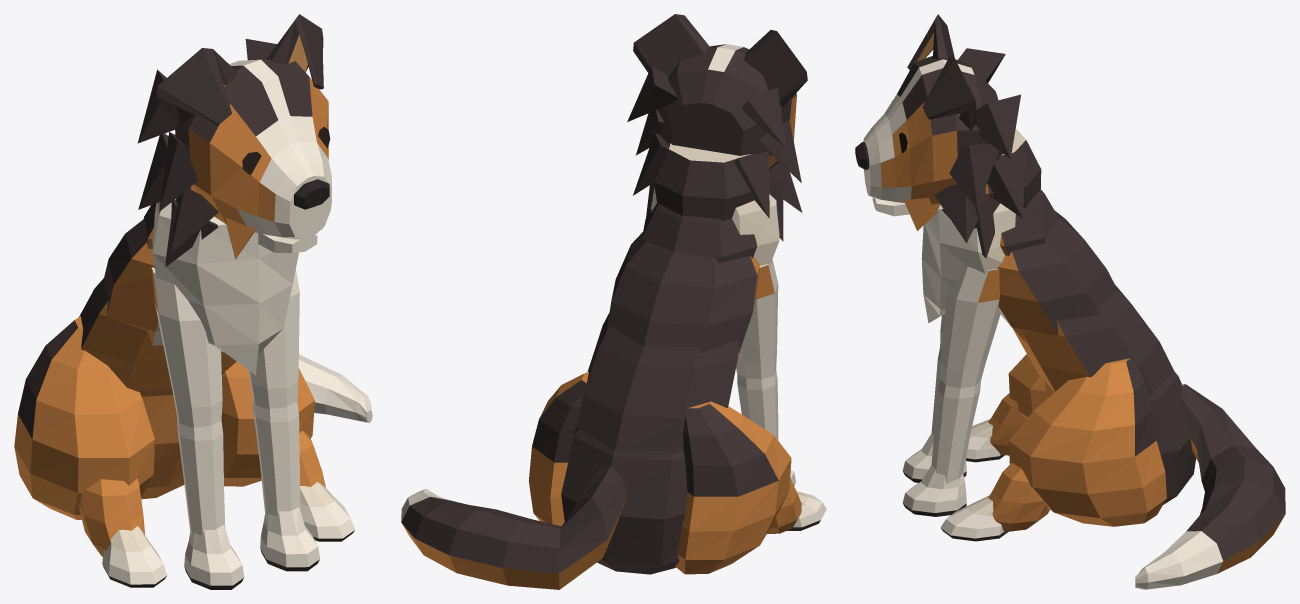
Rendered from Dog_Sit_Codex.fbx.
3 renders of one model, left to right at view 1: azimuth 30°, elevation 25°; view 2: azimuth 150°, elevation 25°; view 3: azimuth 270°, elevation 25°, orthographic. The views are drawn at different scales.
Parts seen in each view (by area): view 1: Dog_Sit_Codex_Head, Dog_Sit_Codex_HindUpper.R, Dog_Sit_Codex_Ruff, Dog_Sit_Codex_FrontUpper.R, Dog_Sit_Codex_Spine1, Dog_Sit_Codex_HindUpper.L, Dog_Sit_Codex_Spine2, Dog_Sit_Codex_FrontLower.L, Dog_Sit_Codex_FrontLower.R, Dog_Sit_Codex_Ear.R, Dog_Sit_Codex_FrontUpper.L, Dog_Sit_Codex_HindLower.R (+10 smaller); view 2: Dog_Sit_Codex_Head, Dog_Sit_Codex_HindUpper.R, Dog_Sit_Codex_Spine1, Dog_Sit_Codex_Spine2, Dog_Sit_Codex_Pelvis, Dog_Sit_Codex_Tail2, Dog_Sit_Codex_Neck2, Dog_Sit_Codex_HindUpper.L, Dog_Sit_Codex_Tail1, Dog_Sit_Codex_Neck1, Dog_Sit_Codex_FrontUpper.R, Dog_Sit_Codex_Ear.L (+6 smaller); view 3: Dog_Sit_Codex_Head, Dog_Sit_Codex_HindUpper.L, Dog_Sit_Codex_Spine2, Dog_Sit_Codex_Spine1, Dog_Sit_Codex_Tail3, Dog_Sit_Codex_FrontUpper.L, Dog_Sit_Codex_Tail2, Dog_Sit_Codex_Ruff, Dog_Sit_Codex_Pelvis, Dog_Sit_Codex_FrontLower.L, Dog_Sit_Codex_Tail1, Dog_Sit_Codex_HindLower.L (+10 smaller).
Part boxes in pixels (left/top/right/bottom): Dog_Sit_Codex_Head: left=137, top=39, right=331, bottom=267; Dog_Sit_Codex_HindUpper.R: left=14, top=316, right=154, bottom=519; Dog_Sit_Codex_Ruff: left=152, top=199, right=298, bottom=375; Dog_Sit_Codex_FrontUpper.R: left=151, top=267, right=222, bottom=427; Dog_Sit_Codex_Spine1: left=79, top=278, right=236, bottom=396; Dog_Sit_Codex_HindUpper.L: left=221, top=361, right=314, bottom=486; Dog_Sit_Codex_Spine2: left=103, top=219, right=162, bottom=345; Dog_Sit_Codex_FrontLower.L: left=253, top=398, right=300, bottom=520; Dog_Sit_Codex_FrontLower.R: left=177, top=416, right=225, bottom=539; Dog_Sit_Codex_Ear.R: left=157, top=48, right=238, bottom=125; Dog_Sit_Codex_FrontUpper.L: left=248, top=269, right=299, bottom=409; Dog_Sit_Codex_HindLower.R: left=79, top=478, right=145, bottom=556; Dog_Sit_Codex_Head: left=627, top=44, right=802, bottom=241; Dog_Sit_Codex_HindUpper.R: left=675, top=401, right=791, bottom=574; Dog_Sit_Codex_Spine1: left=577, top=312, right=738, bottom=453; Dog_Sit_Codex_Spine2: left=606, top=232, right=759, bottom=353; Dog_Sit_Codex_Pelvis: left=561, top=426, right=687, bottom=574; Dog_Sit_Codex_Tail2: left=414, top=502, right=561, bottom=589; Dog_Sit_Codex_Neck2: left=654, top=143, right=754, bottom=221; Dog_Sit_Codex_HindUpper.L: left=529, top=372, right=588, bottom=526; Dog_Sit_Codex_Tail1: left=559, top=466, right=627, bottom=589; Dog_Sit_Codex_Neck1: left=641, top=203, right=757, bottom=263; Dog_Sit_Codex_FrontUpper.R: left=736, top=259, right=778, bottom=379; Dog_Sit_Codex_Ear.L: left=633, top=14, right=710, bottom=77; Dog_Sit_Codex_Head: left=863, top=48, right=1024, bottom=258; Dog_Sit_Codex_HindUpper.L: left=1008, top=358, right=1166, bottom=526; Dog_Sit_Codex_Spine2: left=997, top=211, right=1117, bottom=341; Dog_Sit_Codex_Spine1: left=1013, top=285, right=1174, bottom=394; Dog_Sit_Codex_Tail3: left=1135, top=505, right=1260, bottom=589; Dog_Sit_Codex_FrontUpper.L: left=940, top=267, right=1000, bottom=388; Dog_Sit_Codex_Tail2: left=1200, top=445, right=1285, bottom=555; Dog_Sit_Codex_Ruff: left=921, top=203, right=1015, bottom=323; Dog_Sit_Codex_Pelvis: left=1044, top=371, right=1195, bottom=504; Dog_Sit_Codex_FrontLower.L: left=931, top=379, right=981, bottom=483; Dog_Sit_Codex_Tail1: left=1180, top=384, right=1255, bottom=480; Dog_Sit_Codex_HindLower.L: left=988, top=463, right=1049, bottom=531.
Bounding box in the file's own units: 0.7249 × 0.9772 × 0.8324.
1 material, 1 textured.
